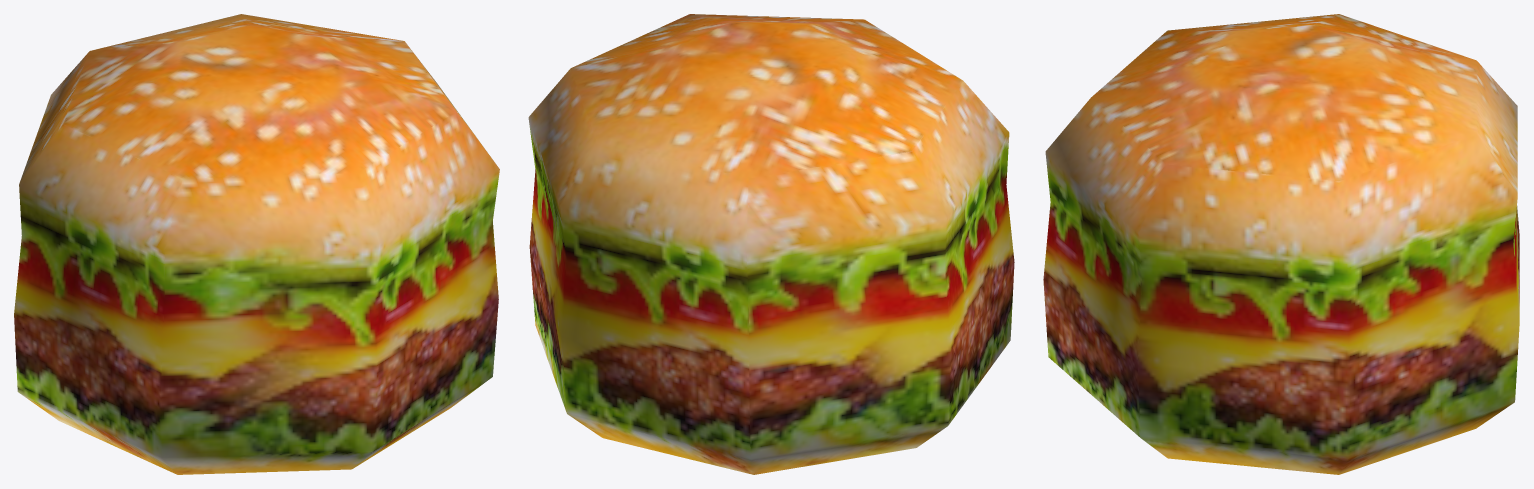
File: Hamburger_04.dae
3 renders of one model, left to right at view 1: azimuth 30°, elevation 25°; view 2: azimuth 150°, elevation 25°; view 3: azimuth 270°, elevation 25°, orthographic.
Parts seen in each view (by area): view 1: Hamburger_04; view 2: Hamburger_04; view 3: Hamburger_04.
Part boxes in pixels (x1,y1,x2,y2): Hamburger_04: (14,14,499,474); Hamburger_04: (528,14,1014,474); Hamburger_04: (1043,14,1519,474).
Size of the model in its own units: 0.1914 by 0.1859 by 0.1441.
1 material, 1 textured.
